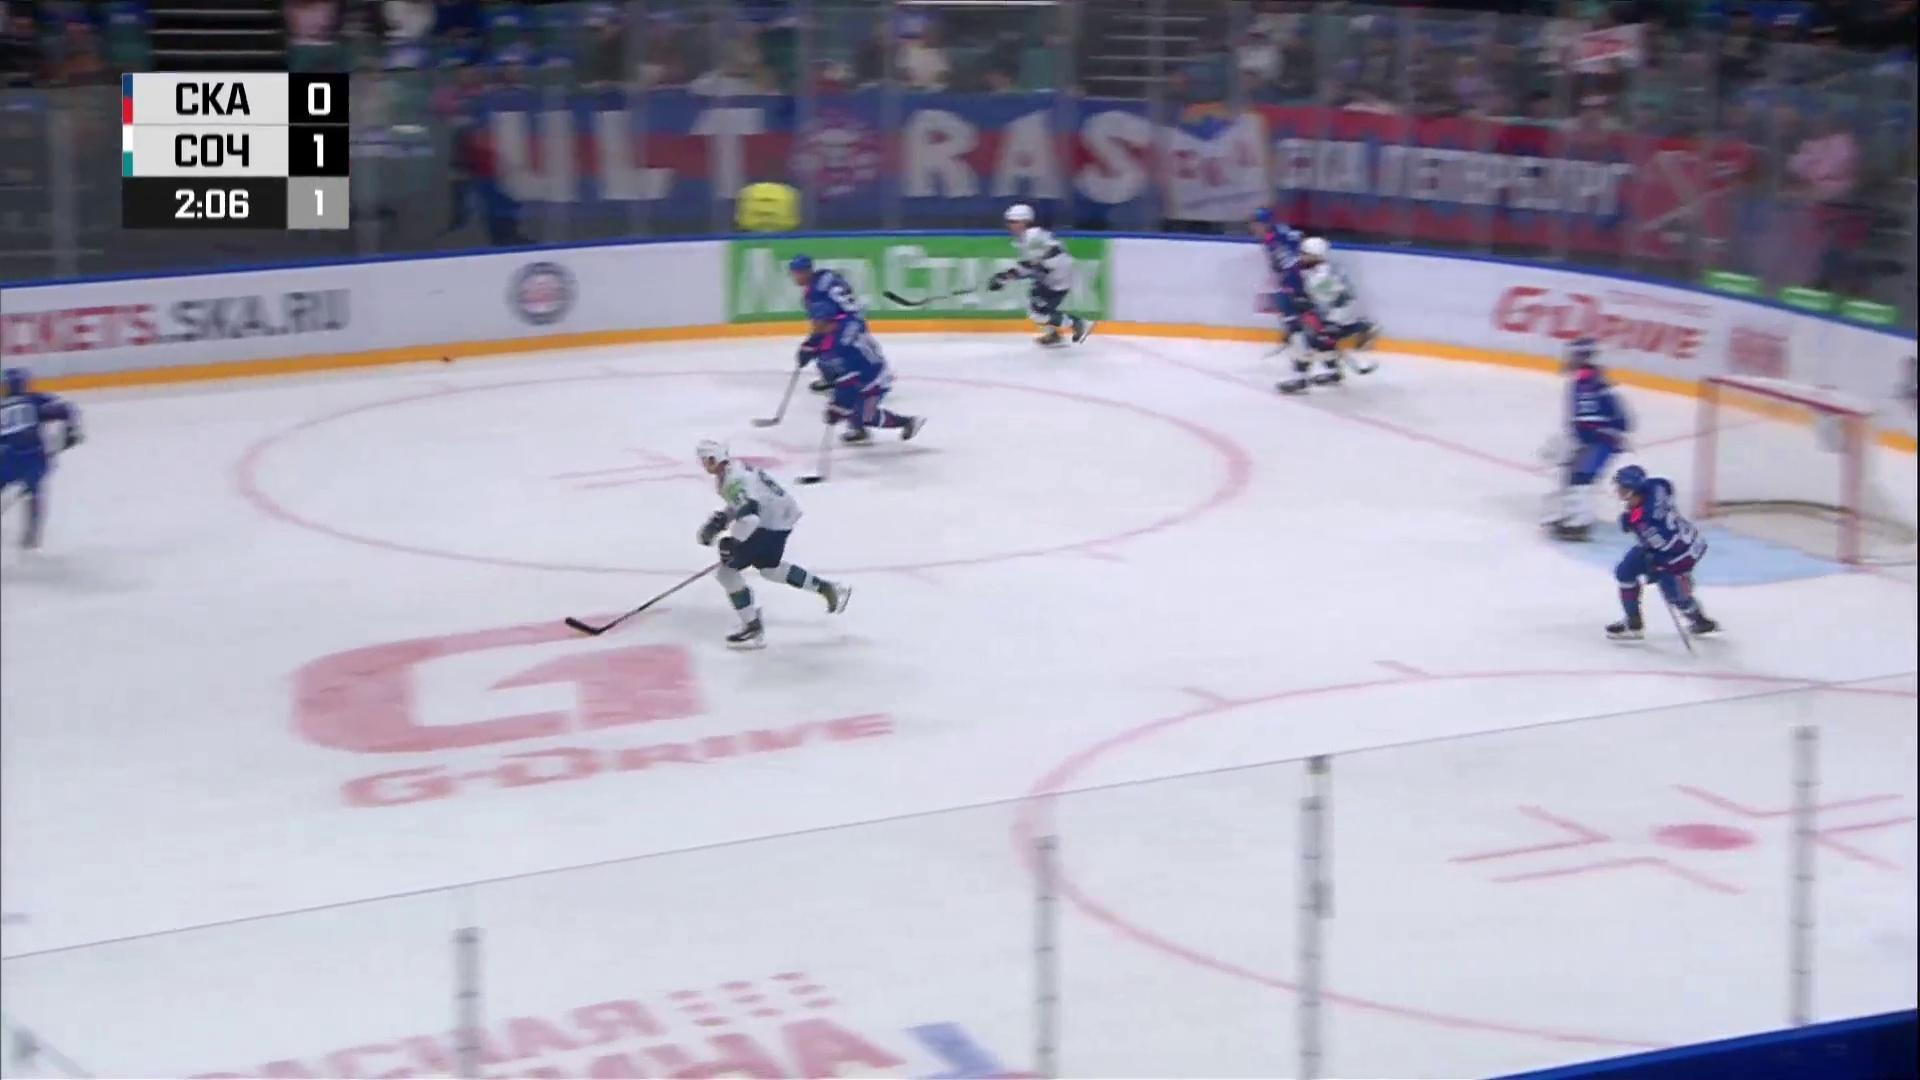ball: (442, 355, 451, 363)
